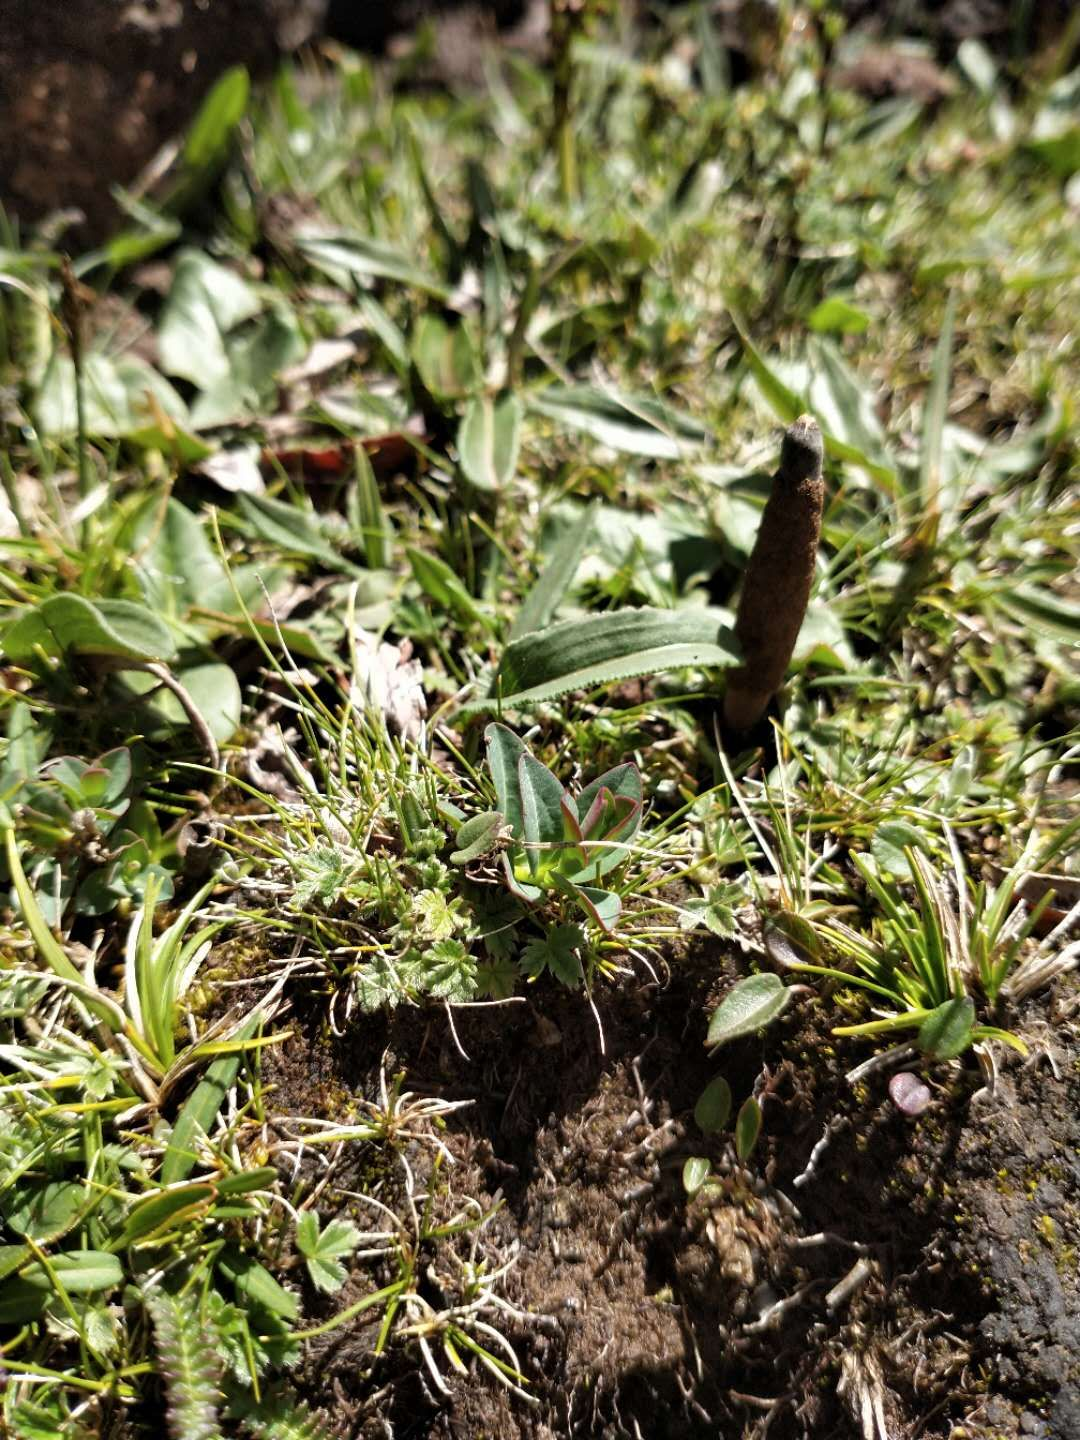cpf: (725, 405, 832, 759)
